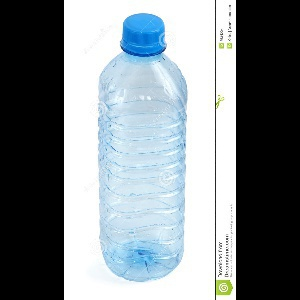emptybottle: (98, 13, 184, 282)
